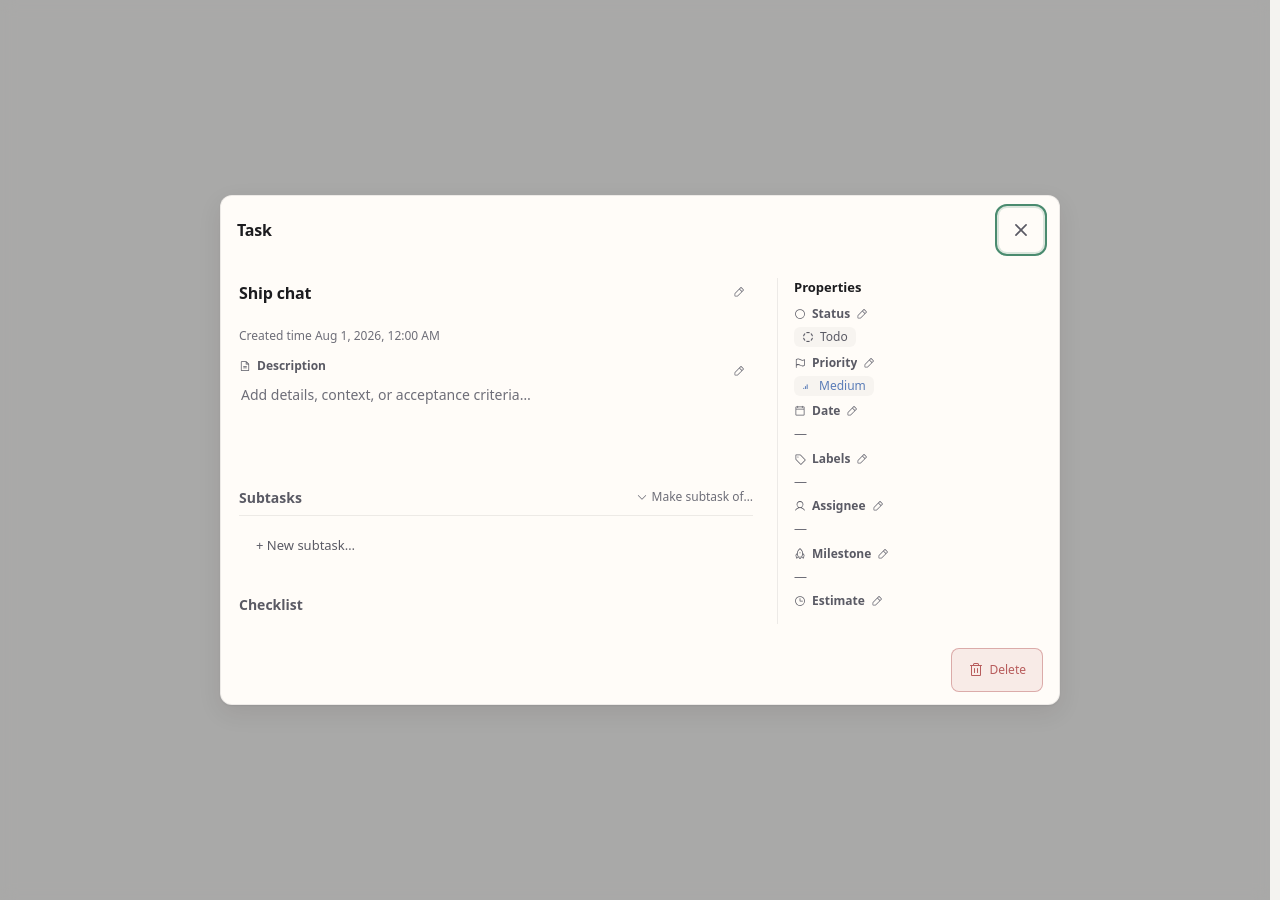
it: TaskModal milestone select › opens milestone options in a single activator click
The image size is (1280, 900).
Click the 4th button "—" at (918, 576), box [794,566,1041,586]
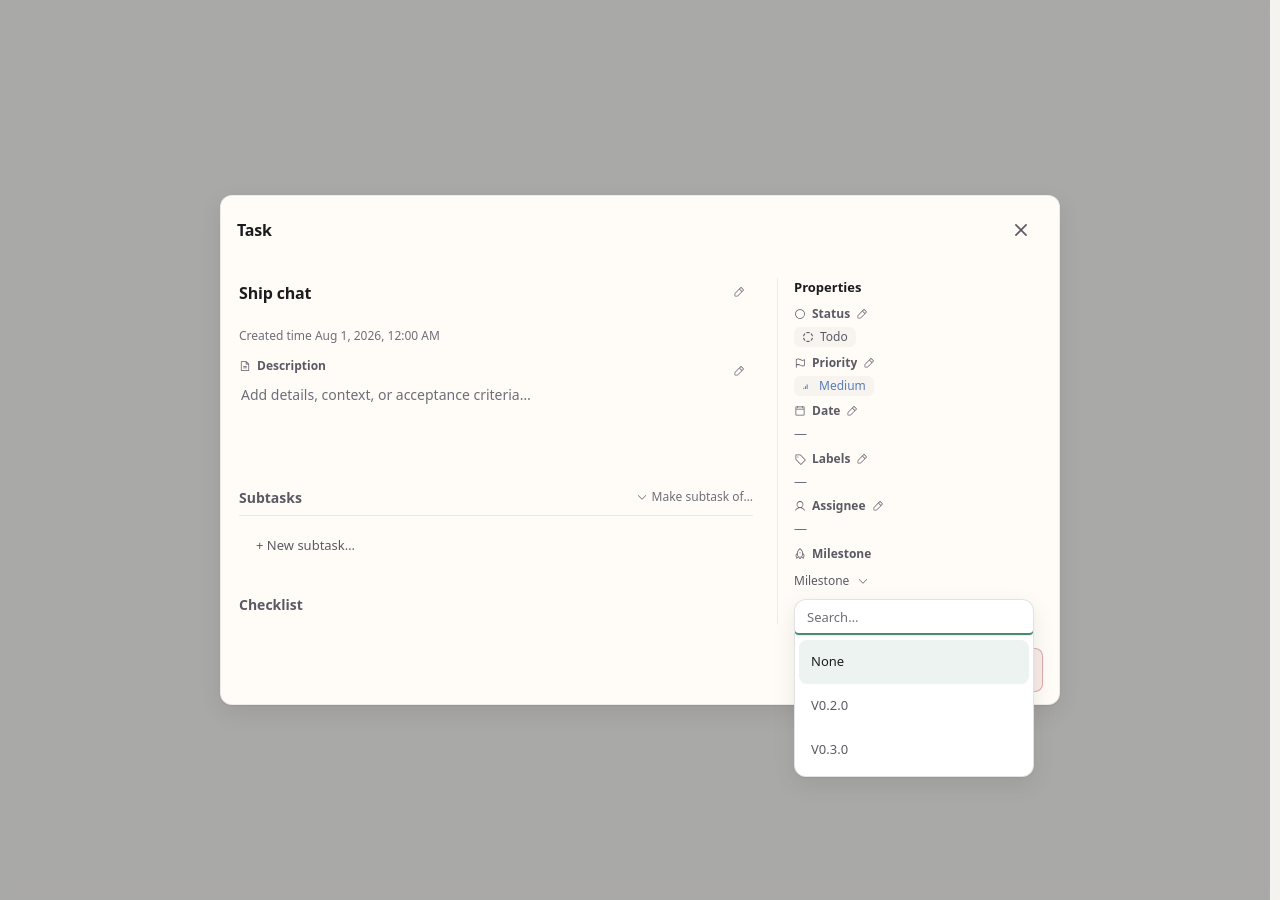
Expected: the option "V0.3.0" is shown, [799,728,1029,772]
